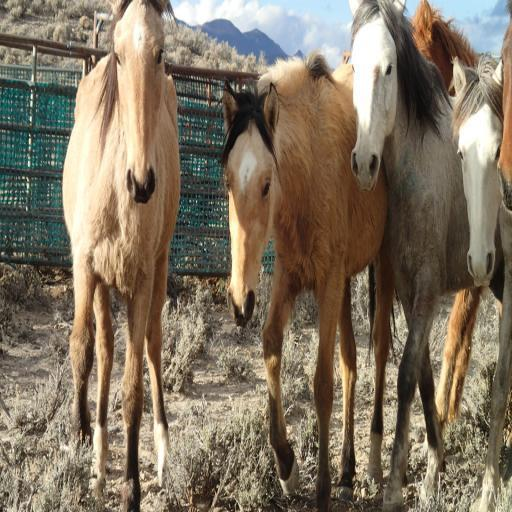horse: (212, 48, 403, 512), (347, 0, 506, 511), (59, 0, 184, 511), (408, 0, 512, 452), (449, 54, 512, 512), (495, 0, 512, 213)
